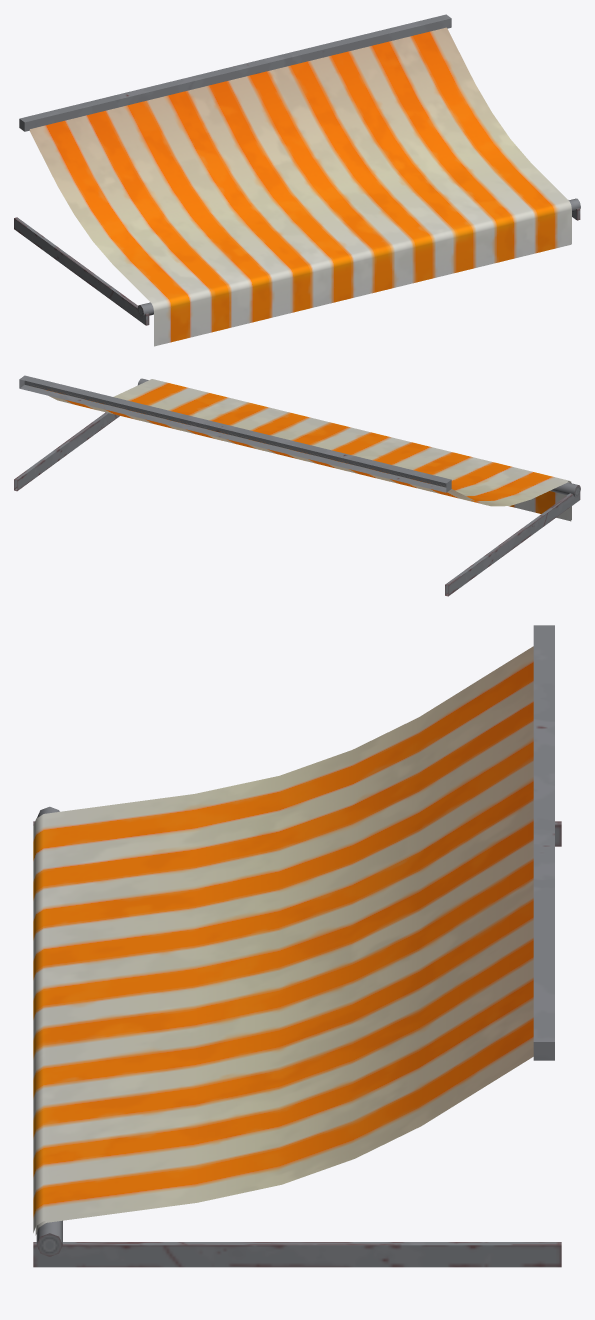
The model's file is Shed1.fbx.
3 views of the same model, one above another, from view 1: azimuth 30°, elevation 25°; view 2: azimuth 150°, elevation 25°; view 3: azimuth 270°, elevation 25° (orthographic). The views are drawn at different scales.
Parts seen in each view (by area): view 1: polySurface1419; view 2: polySurface1419; view 3: polySurface1419.
Part boxes in pixels (<box>): polySurface1419: <box>14,14,580,346</box>; polySurface1419: <box>14,375,580,596</box>; polySurface1419: <box>33,625,561,1267</box>.
Bounding box in the file's own units: 199 × 58.39 × 104.
